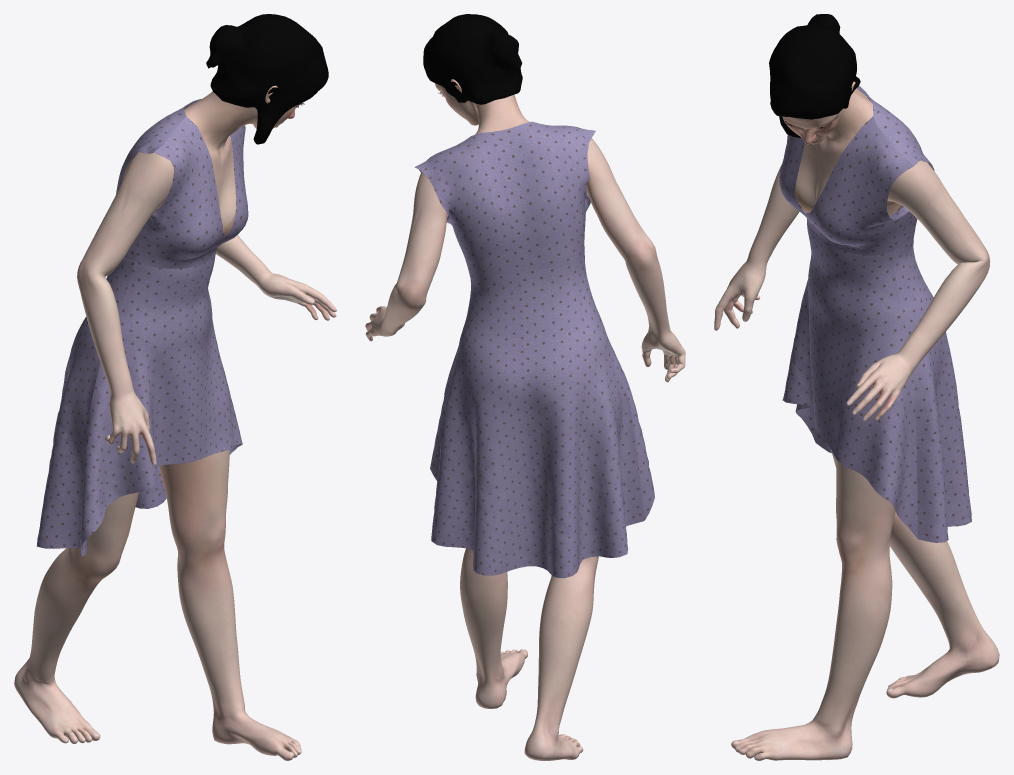
File: Custom_View_4__random.obj
3 renders of one model, left to right at view 1: azimuth 30°, elevation 25°; view 2: azimuth 150°, elevation 25°; view 3: azimuth 270°, elevation 25°, orthographic. The views are drawn at different scales.
Bounding box in the file's own units: 695 × 1681 × 585.
